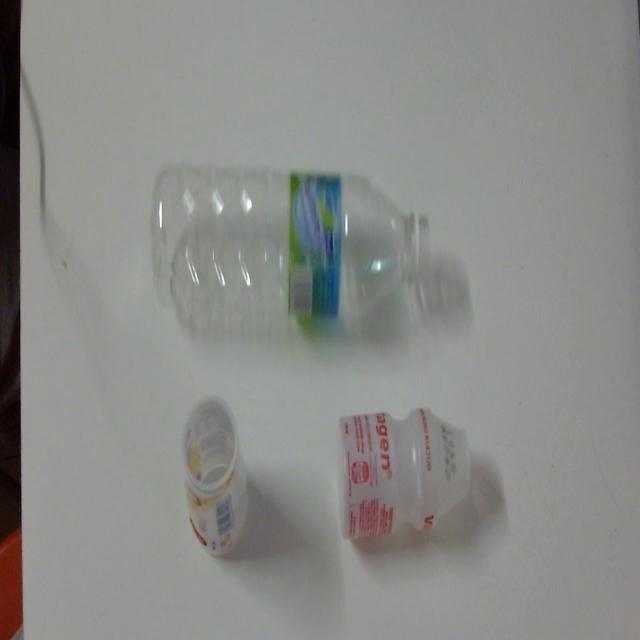plastic_laydown_0rotation: (152, 140, 436, 329), (327, 390, 481, 570)
plastic_standrotation: (173, 390, 260, 568)
